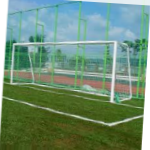goals: (9, 37, 136, 103)
